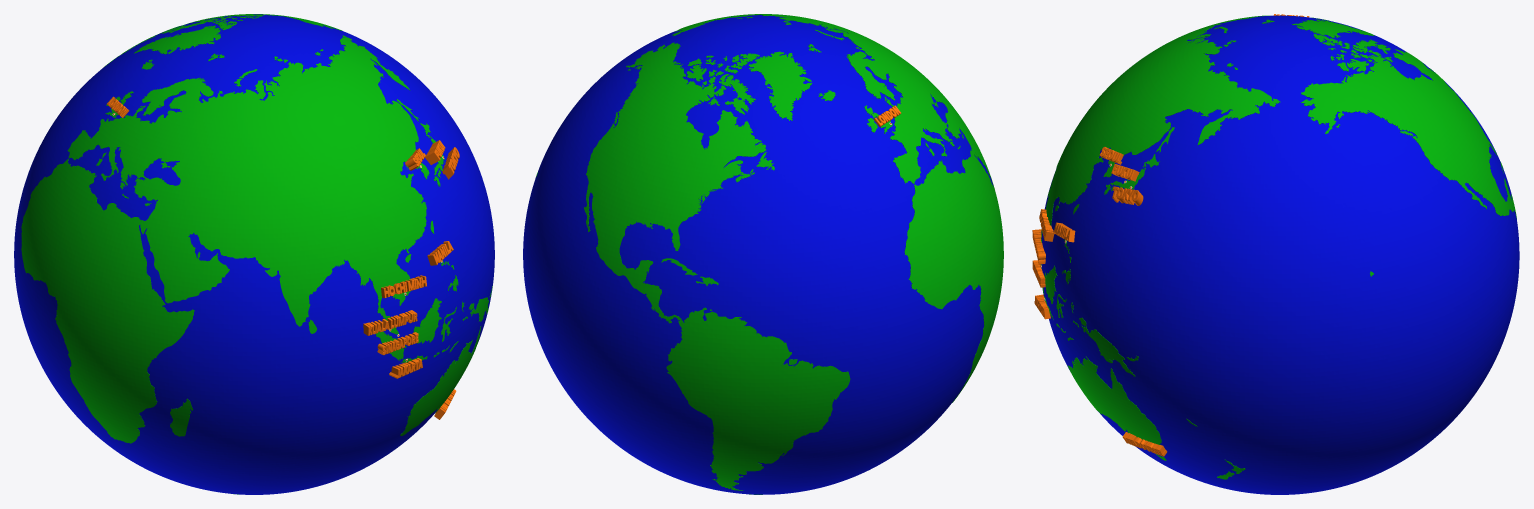
File: globeAddress.glb
3 views of the same model, side by side, from view 1: azimuth 30°, elevation 25°; view 2: azimuth 150°, elevation 25°; view 3: azimuth 270°, elevation 25° (orthographic).
Visible parts, largest first — view 1: Object_2, Object_20, Object_16, Object_17, Object_12, Object_13, KualaText, HochiText; view 2: Object_2, Object_19, Object_20, Object_17, Object_15; view 3: Object_2, Object_20, Object_19, Object_16, Object_14, Object_17, Object_13.
Boxes of the visible parts, left/top/right/bottom form: Object_2: left=14, top=14, right=494, bottom=494; Object_20: left=21, top=35, right=429, bottom=443; Object_16: left=400, top=326, right=481, bottom=435; Object_17: left=134, top=25, right=220, bottom=54; Object_12: left=170, top=14, right=456, bottom=436; Object_13: left=105, top=91, right=444, bottom=343; KualaText: left=363, top=310, right=417, bottom=335; HochiText: left=381, top=275, right=426, bottom=298; Object_2: left=523, top=15, right=993, bottom=494; Object_19: left=584, top=42, right=850, bottom=488; Object_20: left=672, top=14, right=1003, bottom=402; Object_17: left=748, top=51, right=811, bottom=120; Object_15: left=719, top=74, right=755, bottom=114; Object_2: left=1041, top=15, right=1519, bottom=494; Object_20: left=1041, top=15, right=1280, bottom=265; Object_19: left=1301, top=49, right=1516, bottom=218; Object_16: left=1068, top=356, right=1161, bottom=444; Object_14: left=1079, top=33, right=1342, bottom=376; Object_17: left=1292, top=19, right=1374, bottom=37; Object_13: left=1044, top=167, right=1145, bottom=303.
Bounding box in the file's own units: 2 × 2 × 2.03.
